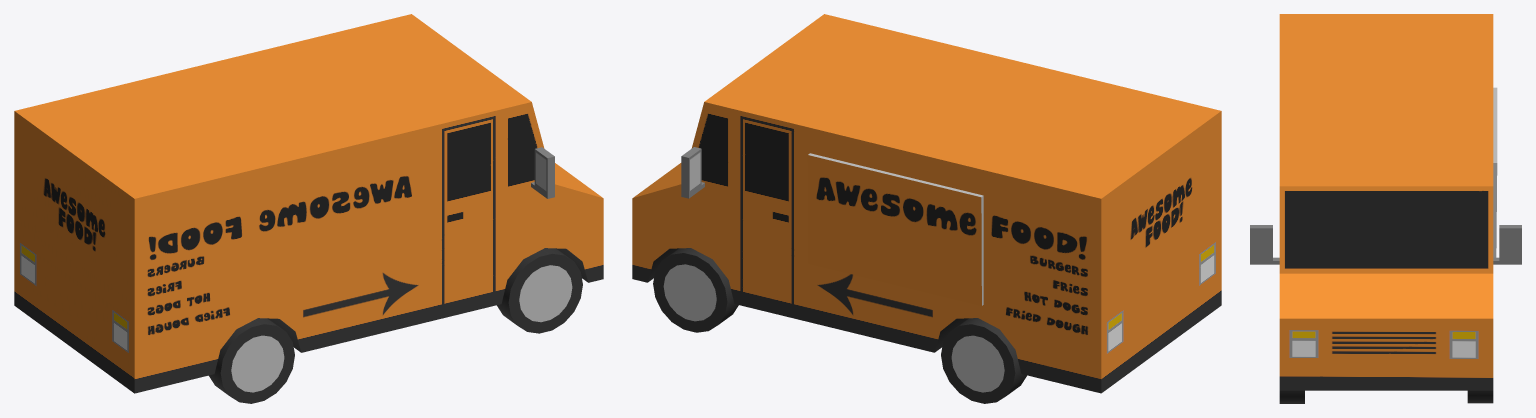
File: FoodTruckRace.FBX
The picture shows the model from 3 angles, left to right: view 1: azimuth 30°, elevation 25°; view 2: azimuth 150°, elevation 25°; view 3: azimuth 270°, elevation 25°; orthographic projection. The views are drawn at different scales.
Parts seen in each view (by area): view 1: Cylinder002, Object003, Object002; view 2: Cylinder002, Object001, Object004; view 3: Cylinder002, Object004, Object003.
Boxes of the visible parts, <box> form: Cylinder002: <box>14,14,603,393</box>; Object003: <box>497,248,582,333</box>; Object002: <box>209,318,294,403</box>; Cylinder002: <box>632,14,1221,393</box>; Object001: <box>941,318,1026,403</box>; Object004: <box>653,248,738,332</box>; Cylinder002: <box>1250,14,1521,390</box>; Object004: <box>1467,390,1493,403</box>; Object003: <box>1279,390,1304,403</box>.
Size of the model in its own units: 37.81 by 18 by 21.35.
